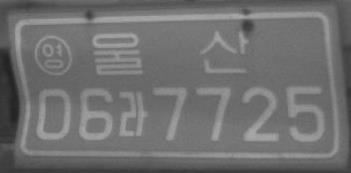0: (35, 86, 71, 140)
2: (241, 85, 279, 143)
5: (284, 84, 325, 144)
6: (77, 86, 112, 141)
7: (194, 85, 231, 141), (151, 85, 187, 141)
라: (118, 89, 148, 137)
영: (32, 34, 73, 76)
울산_D: (91, 30, 251, 76)
